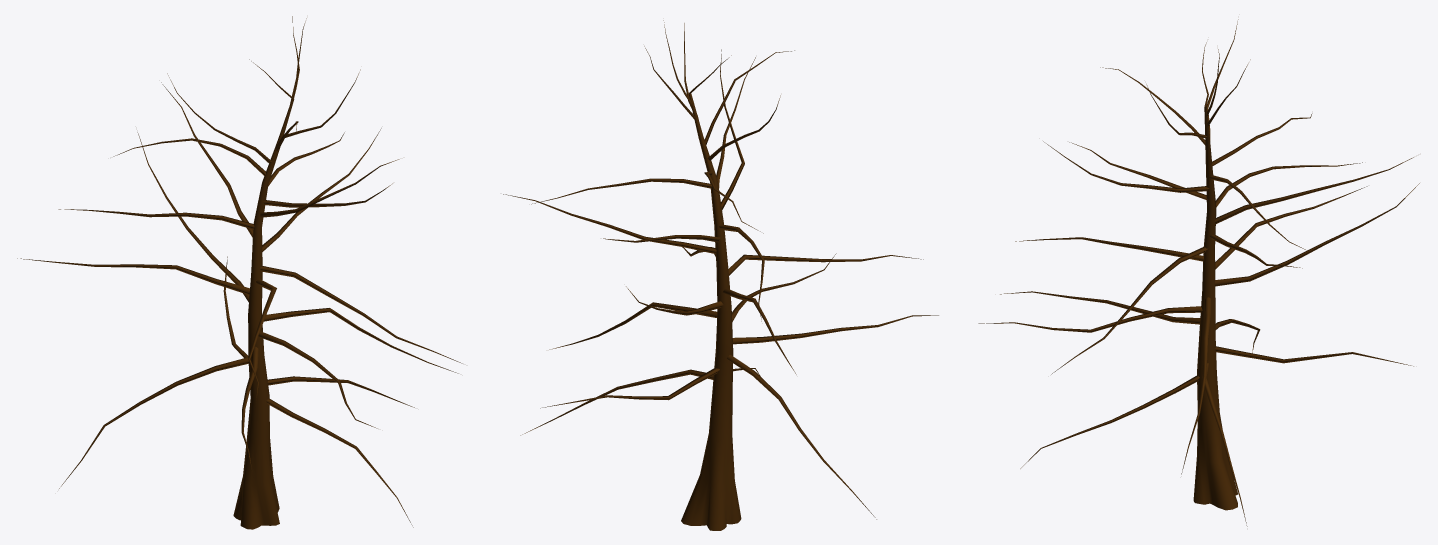
The model's file is low poly aзaЗ.FBX.
3 renders of one model, left to right at view 1: azimuth 30°, elevation 25°; view 2: azimuth 150°, elevation 25°; view 3: azimuth 270°, elevation 25°, orthographic. The views are drawn at different scales.
Visible parts, largest first — view 1: oak_tree; view 2: oak_tree; view 3: oak_tree.
Part boxes in pixels (x1,y1,x2,y2): oak_tree: (17,16,462,529); oak_tree: (503,20,938,530); oak_tree: (978,19,1419,526).
Size of the model in its own units: 142 by 179 by 152.
